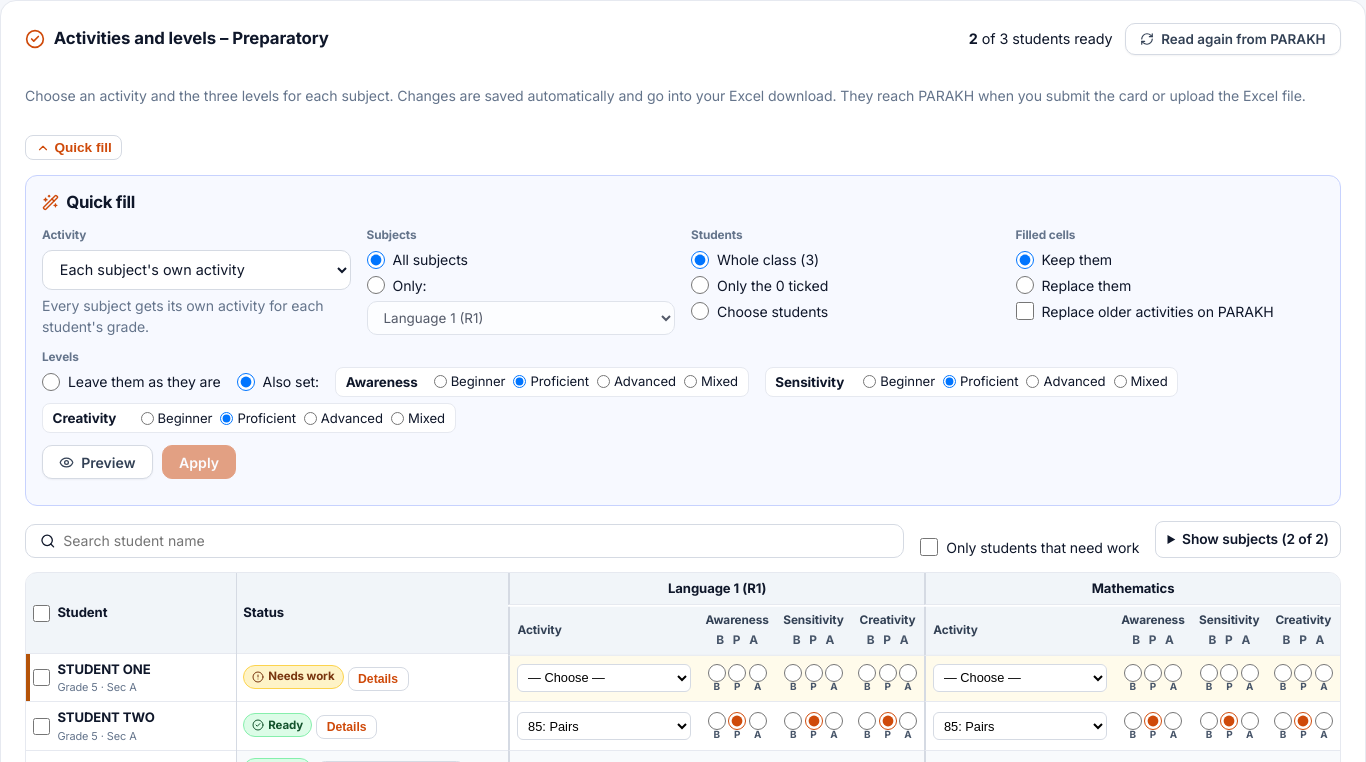
Test: Activities grid › quick fill can change the levels of students chosen by name, and only their levels
Check: the text "STUDENT ONE" is shown, box [57,660,151,680]
Check: the button "Preview" is enabled, box [42,446,152,479]
Click the radio button labelled "Choose students" at (700, 311), box [691,302,709,320]
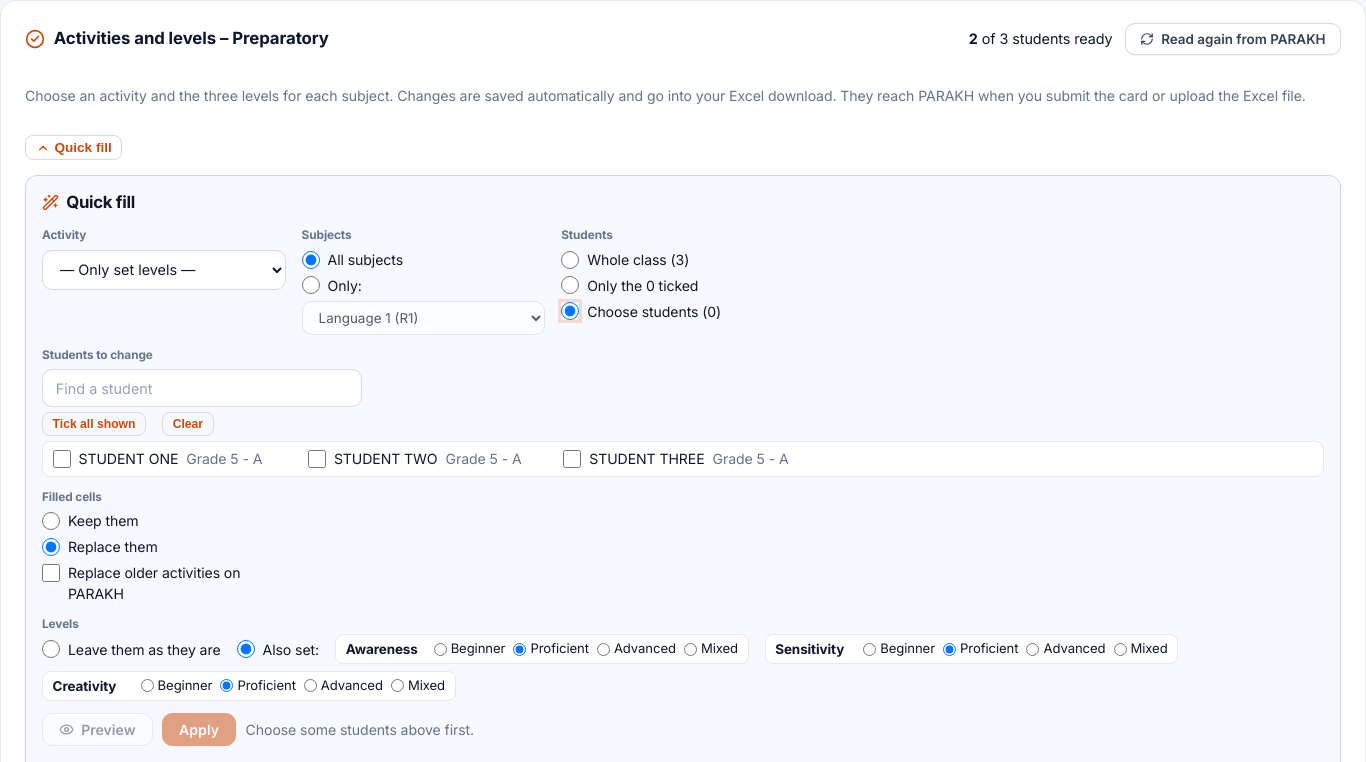
Check: the button "Preview" is disabled, box [42,713,152,746]
Check: the text "Choose some students above first." is shown, box [246,719,474,740]
Type "two" into the search field labelled "Find a student" at (202, 388), box [42,369,362,407]
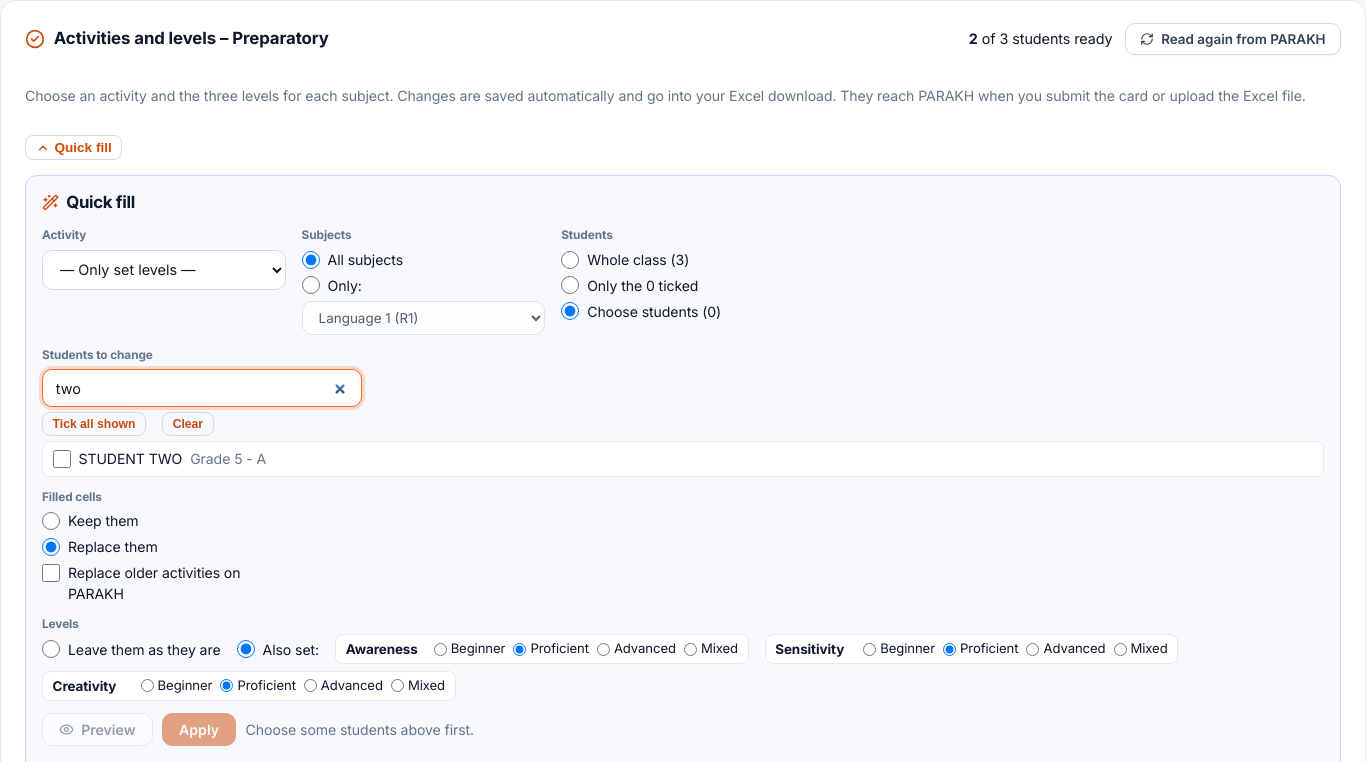
Click the checkbox labelled "STUDENT TWO Grade 5 - A" at (62, 459), box [53,450,71,468]
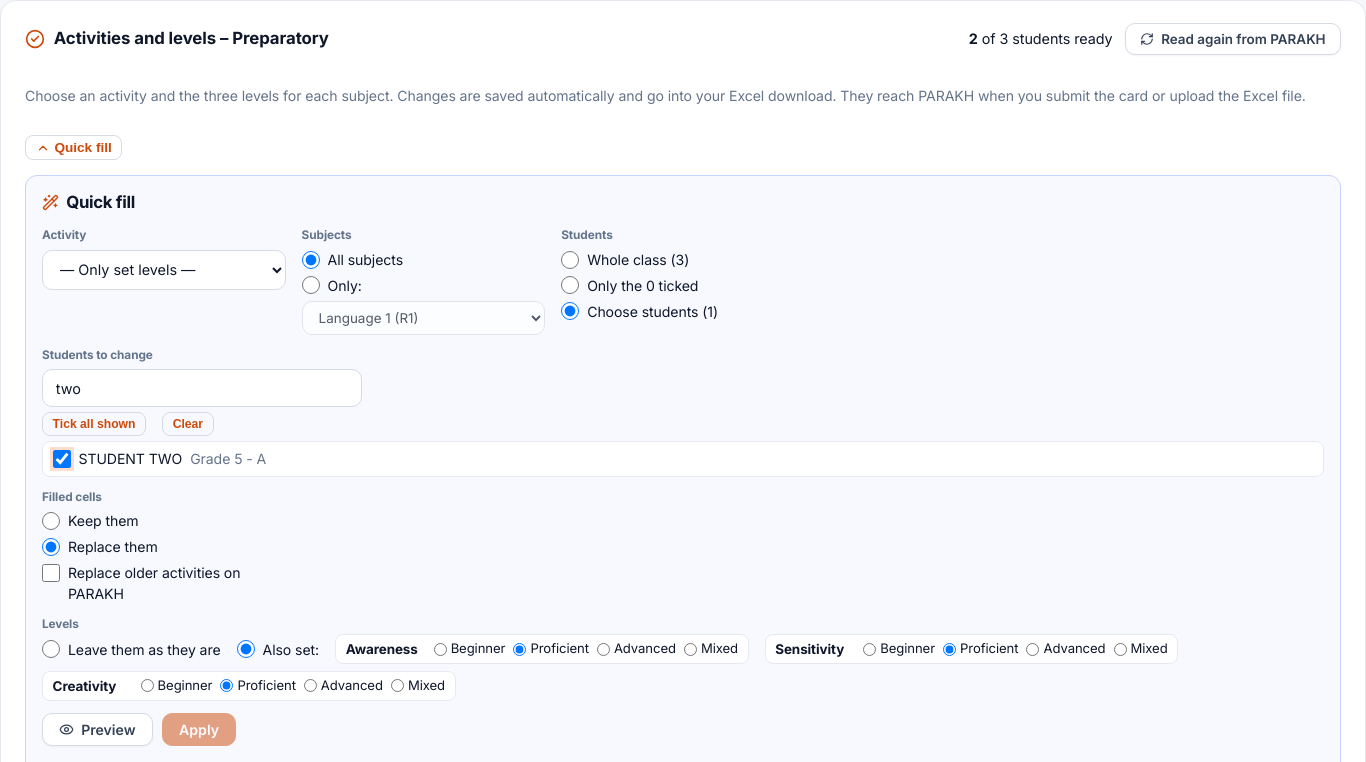
Click the 1st radio button labelled "Advanced" at (603, 649), box [597,643,610,656]
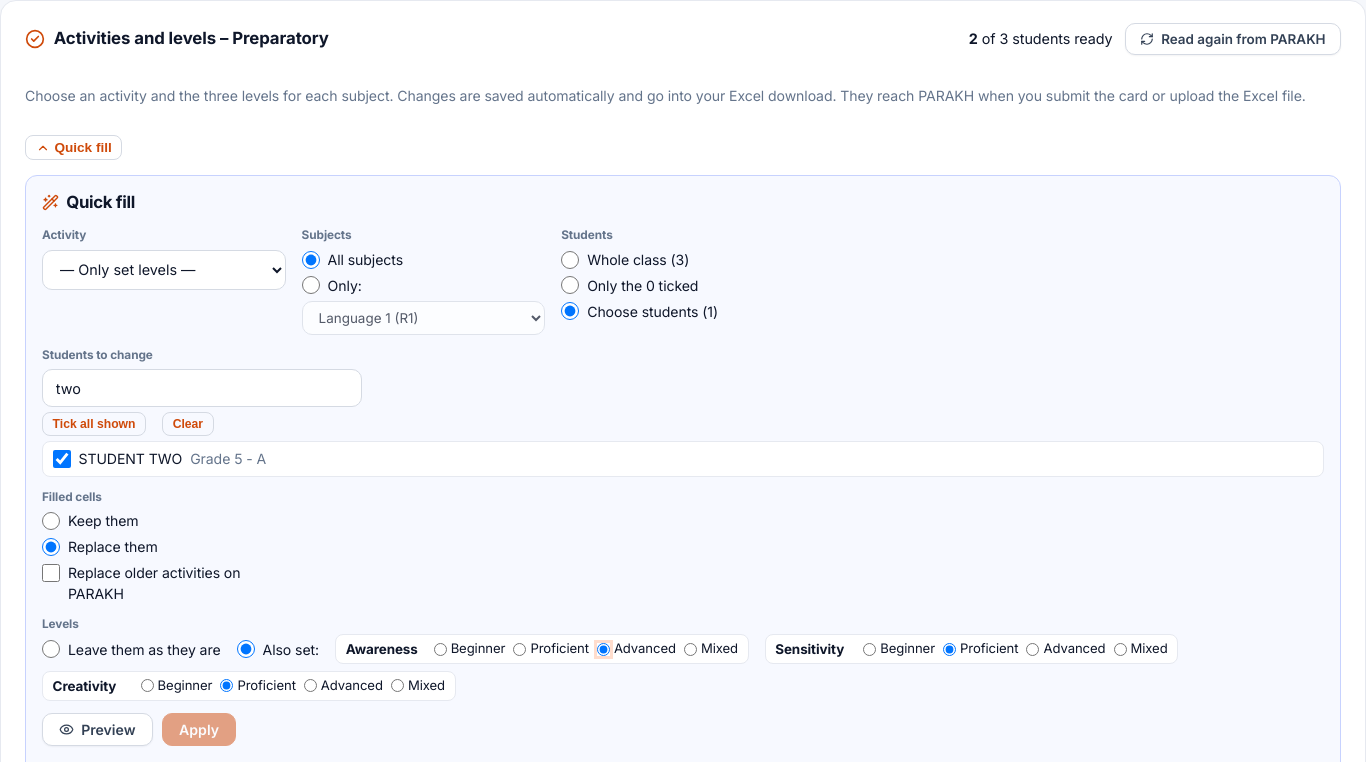
Check: the dropdown labelled "Activity" shows "— Only set levels —", box [42,250,286,290]
Check: the radio button labelled "Replace them" is checked, box [42,538,60,556]
Click the button "Preview" at (97, 730), box [42,713,152,746]
(page scrolled)
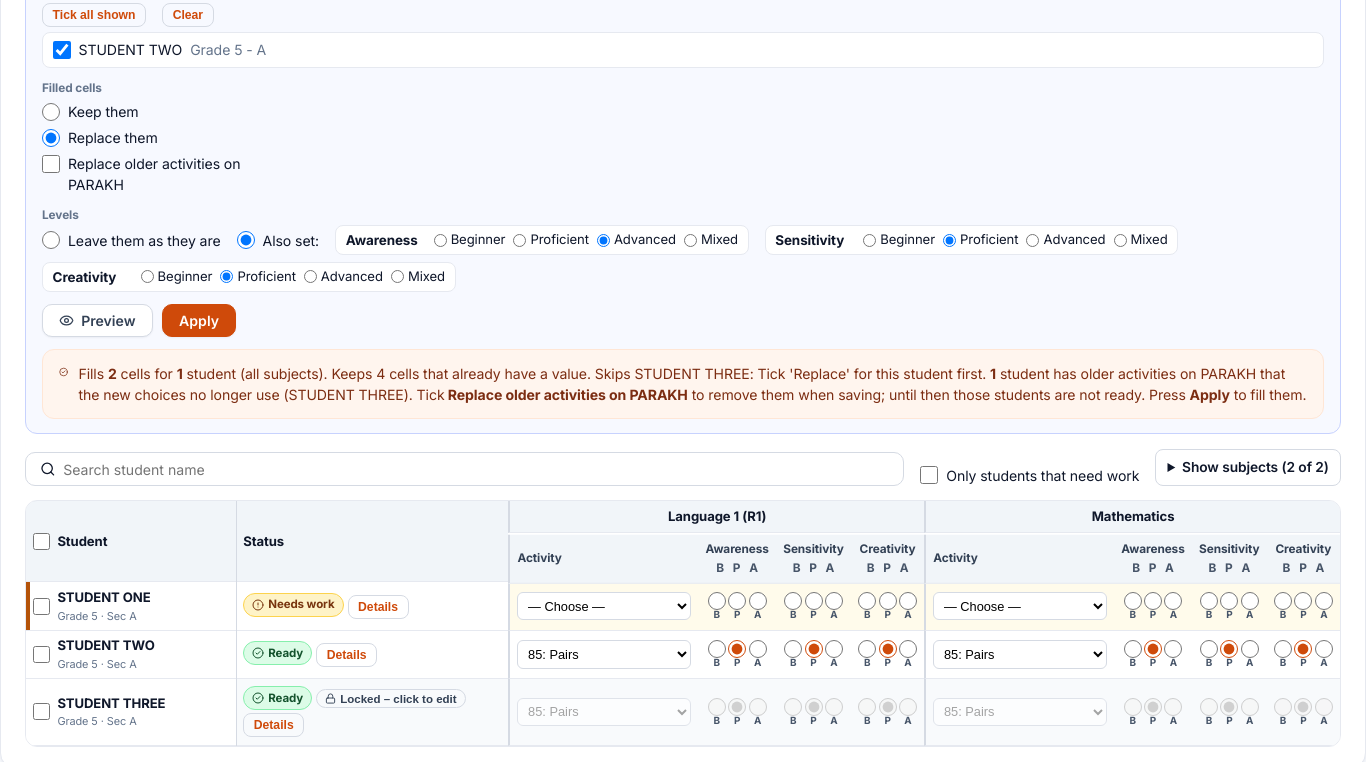
Check: the text "Fills" is shown, box [78,365,108,382]
